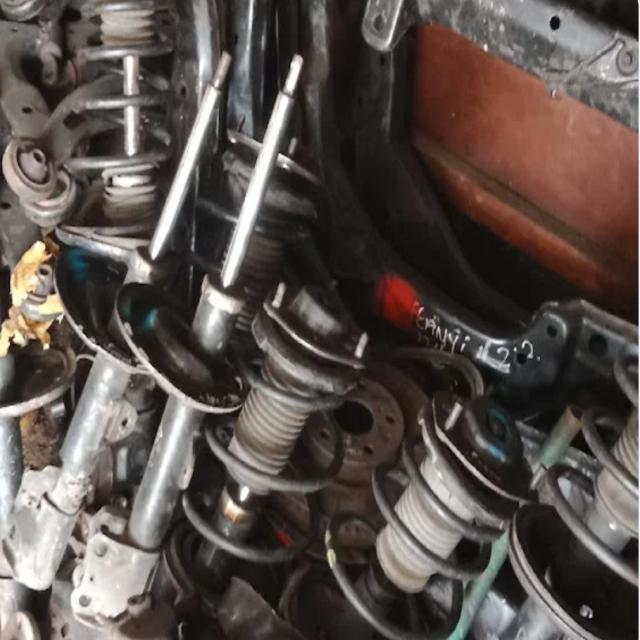shock absorber: (66, 54, 304, 617), (2, 51, 231, 588), (163, 278, 372, 634), (279, 386, 538, 639)
